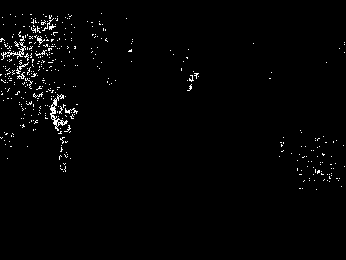person: (50, 93, 79, 174)
